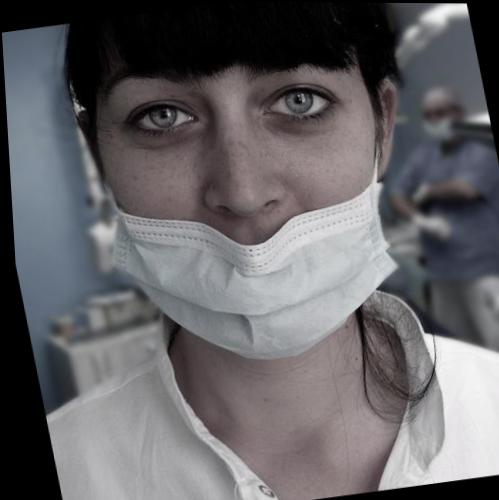WRONG: (81, 41, 422, 369)
